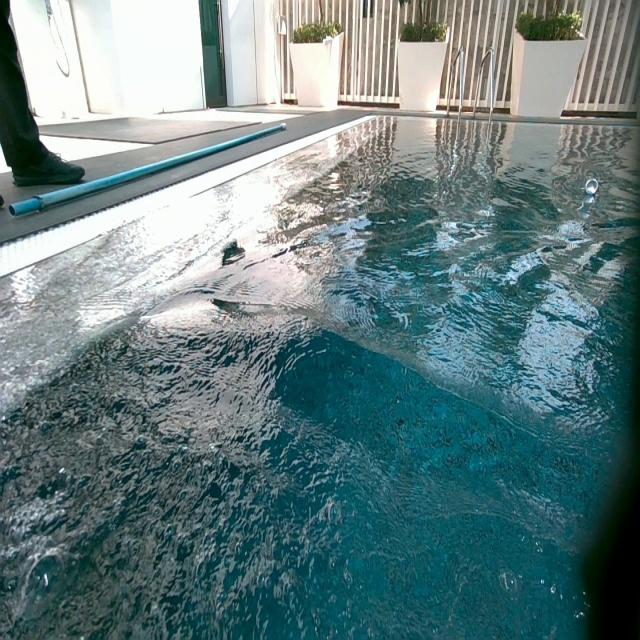Cans: (586, 178, 600, 194)
